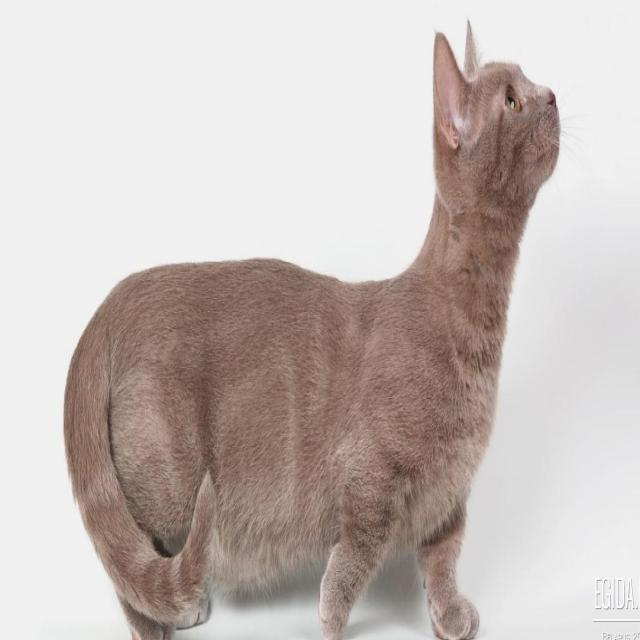Munchkin: (58, 7, 563, 640)
